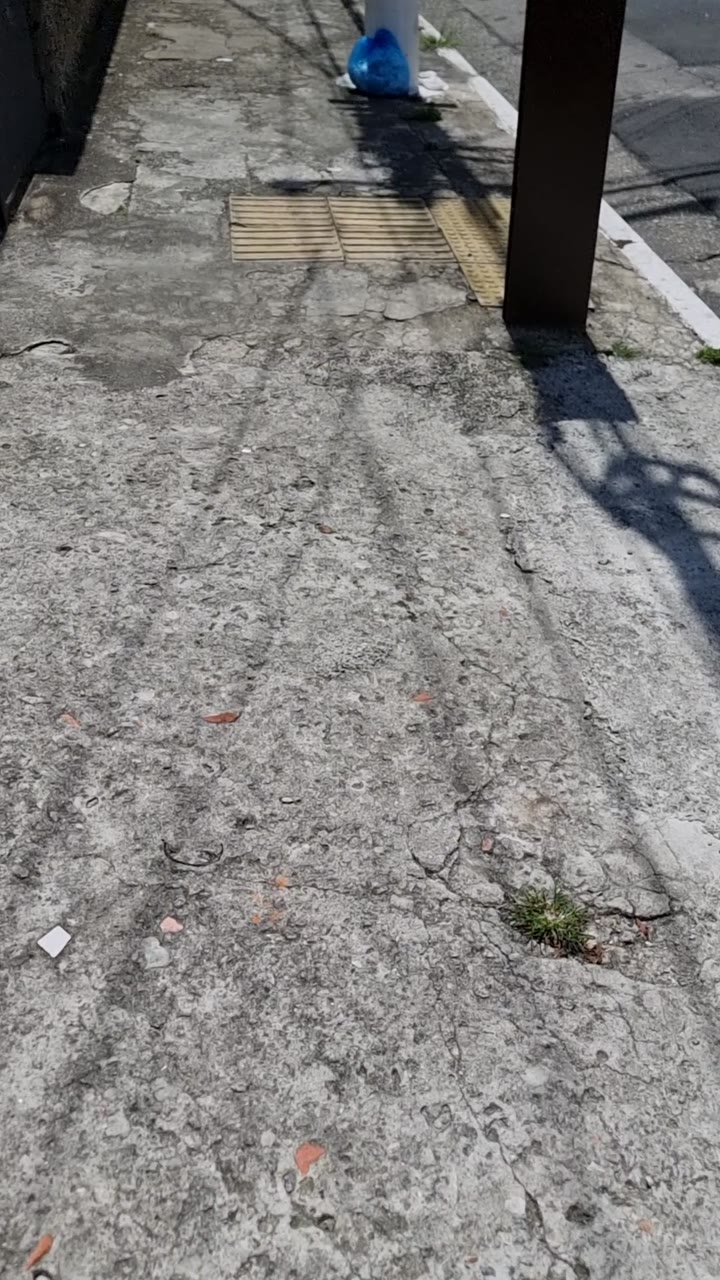obstaculo: (504, 0, 576, 358), (338, 26, 410, 90)
